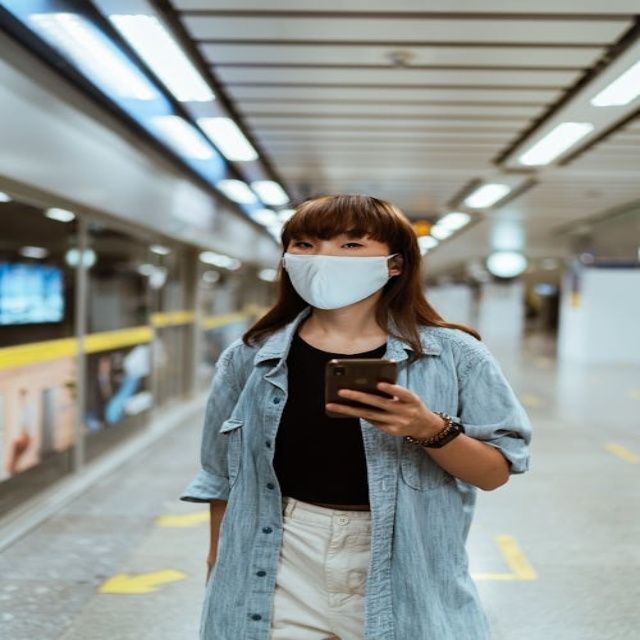Mascara: (282, 251, 400, 309)
Sin_gafas: (287, 235, 380, 253)
Sin_guantes: (321, 375, 436, 438)
